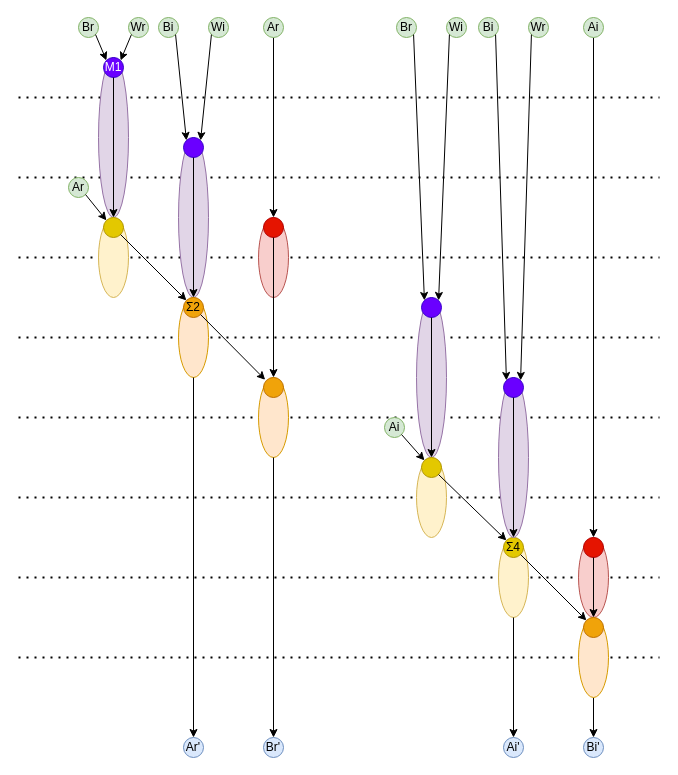
Image size: 678x775. Some labels were removed from this diagram. Here are the shapes that lost their labels. From the top down, the centre of each, then its label:
At (193,147): "M2".
At (113,227): "Σ1".
At (273,227): "M5".
At (431,307): "M3".
At (273,387): "Σ5".
At (513,387): "M4".
At (431,467): "Σ3".
At (593,547): "M6".
At (593,627): "Σ6".
